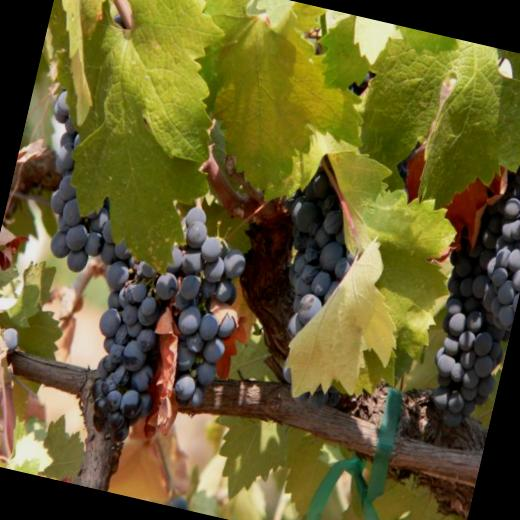Orange: (0, 2, 237, 448), (242, 58, 434, 418), (412, 94, 520, 434), (144, 205, 259, 412), (0, 313, 22, 463)
